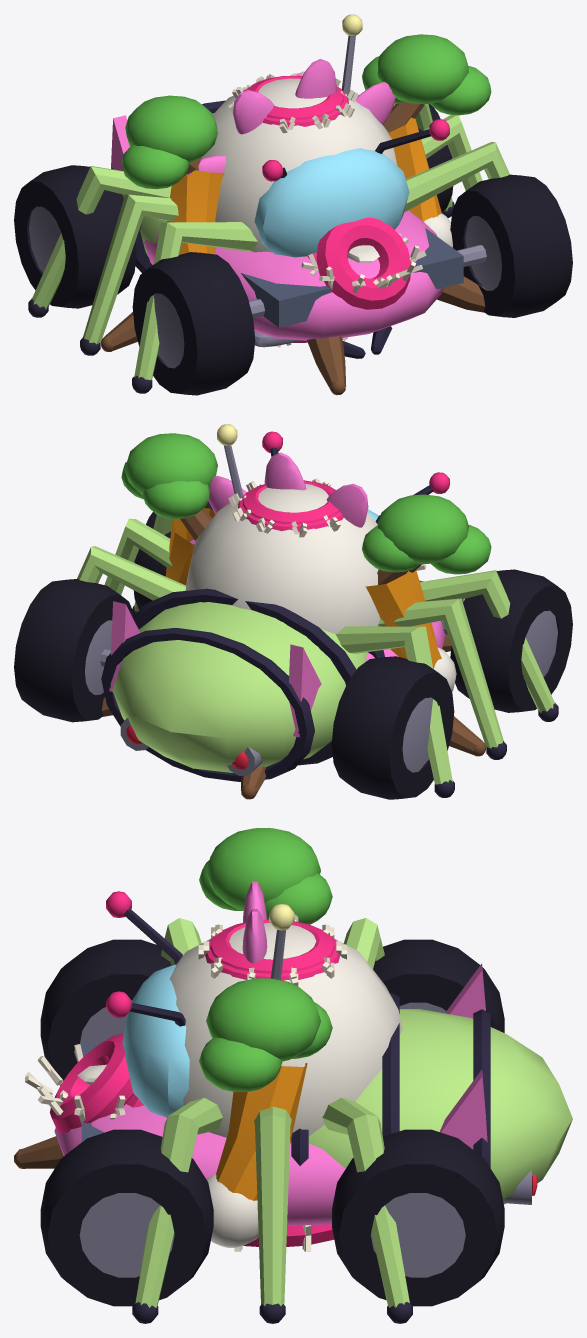
The model's file is chimera_kit_a.glb.
The picture shows the model from 3 angles, top to bottom: view 1: azimuth 30°, elevation 25°; view 2: azimuth 150°, elevation 25°; view 3: azimuth 270°, elevation 25°; orthographic projection. The views are drawn at different scales.
Visible parts, largest first — view 1: ck_body_sapling_leaves, ck_legs_car_wheelLF_tire, ck_legs_car_wheelRF_tire, ck_head_person_visor, ck_head_person_helmet, ck_body_car_hull, ck_legs_car_wheelLB_tire, ck_body_car_neck_collar, ck_legs_car_chassis, ck_legs_mite_legL1_seg, ck_legs_mite_legL2_seg, ck_head_sapling_petals (+24 smaller); view 2: ck_body_mite_abdomen, ck_head_person_helmet, ck_body_sapling_leaves, ck_legs_car_wheelLB_tire, ck_legs_car_wheelRB_tire, ck_body_mite_bands, ck_legs_car_wheelLF_tire, ck_legs_mite_legL1_seg, ck_legs_mite_legL0_seg, ck_legs_mite_legL2_seg, ck_head_sapling_petals, ck_legs_mite_legR0_seg (+17 smaller); view 3: ck_body_mite_abdomen, ck_body_sapling_leaves, ck_head_person_helmet, ck_legs_car_wheelRB_tire, ck_legs_car_wheelRF_tire, ck_legs_car_wheelLF_tire, ck_head_person_visor, ck_body_car_hull, ck_legs_car_wheelLB_tire, ck_legs_mite_legR1_seg, ck_legs_mite_legR2_seg, ck_body_person_armR_a (+19 smaller).
Part boxes in pixels (x1=…): ck_body_sapling_leaves: x1=121, y1=34, x2=491, y2=189; ck_legs_car_wheelLF_tire: x1=132, y1=252, x2=255, y2=395; ck_legs_car_wheelRF_tire: x1=450, y1=174, x2=572, y2=317; ck_head_person_visor: x1=254, y1=148, x2=409, y2=257; ck_head_person_helmet: x1=201, y1=78, x2=397, y2=252; ck_body_car_hull: x1=144, y1=210, x2=443, y2=340; ck_legs_car_wheelLB_tire: x1=14, y1=165, x2=136, y2=308; ck_body_car_neck_collar: x1=316, y1=217, x2=410, y2=309; ck_legs_car_chassis: x1=241, y1=228, x2=463, y2=327; ck_legs_mite_legL1_seg: x1=83, y1=194, x2=178, y2=344; ck_legs_mite_legL2_seg: x1=134, y1=222, x2=257, y2=380; ck_head_sapling_petals: x1=189, y1=59, x2=395, y2=175; ck_body_mite_abdomen: x1=112, y1=602, x2=366, y2=772; ck_head_person_helmet: x1=185, y1=483, x2=380, y2=634; ck_body_sapling_leaves: x1=121, y1=433, x2=491, y2=574; ck_legs_car_wheelLB_tire: x1=331, y1=656, x2=454, y2=799; ck_legs_car_wheelRB_tire: x1=14, y1=579, x2=134, y2=722; ck_body_mite_bands: x1=101, y1=588, x2=384, y2=781; ck_legs_car_wheelLF_tire: x1=450, y1=569, x2=572, y2=712; ck_legs_mite_legL1_seg: x1=378, y1=598, x2=503, y2=748; ck_legs_mite_legL0_seg: x1=336, y1=626, x2=452, y2=784; ck_legs_mite_legL2_seg: x1=420, y1=570, x2=555, y2=713; ck_head_sapling_petals: x1=189, y1=452, x2=368, y2=544; ck_legs_mite_legR0_seg: x1=77, y1=546, x2=185, y2=600; ck_body_mite_abdomen: x1=308, y1=1009, x2=572, y2=1204; ck_body_sapling_leaves: x1=199, y1=828, x2=332, y2=1091; ck_head_person_helmet: x1=169, y1=923, x2=402, y2=1142; ck_legs_car_wheelRB_tire: x1=332, y1=1129, x2=504, y2=1306; ck_legs_car_wheelRF_tire: x1=40, y1=1129, x2=213, y2=1306; ck_legs_car_wheelLF_tire: x1=40, y1=939, x2=171, y2=1085; ck_head_person_visor: x1=122, y1=964, x2=189, y2=1117; ck_body_car_hull: x1=54, y1=1104, x2=345, y2=1226; ck_legs_car_wheelLB_tire: x1=373, y1=939, x2=504, y2=1032; ck_legs_mite_legR1_seg: x1=254, y1=1106, x2=291, y2=1306; ck_legs_mite_legR2_seg: x1=135, y1=1098, x2=222, y2=1307; ck_body_person_armR_a: x1=216, y1=1063, x2=307, y2=1200.
Size of the model in its own units: 1.32 by 0.862 by 1.23.
